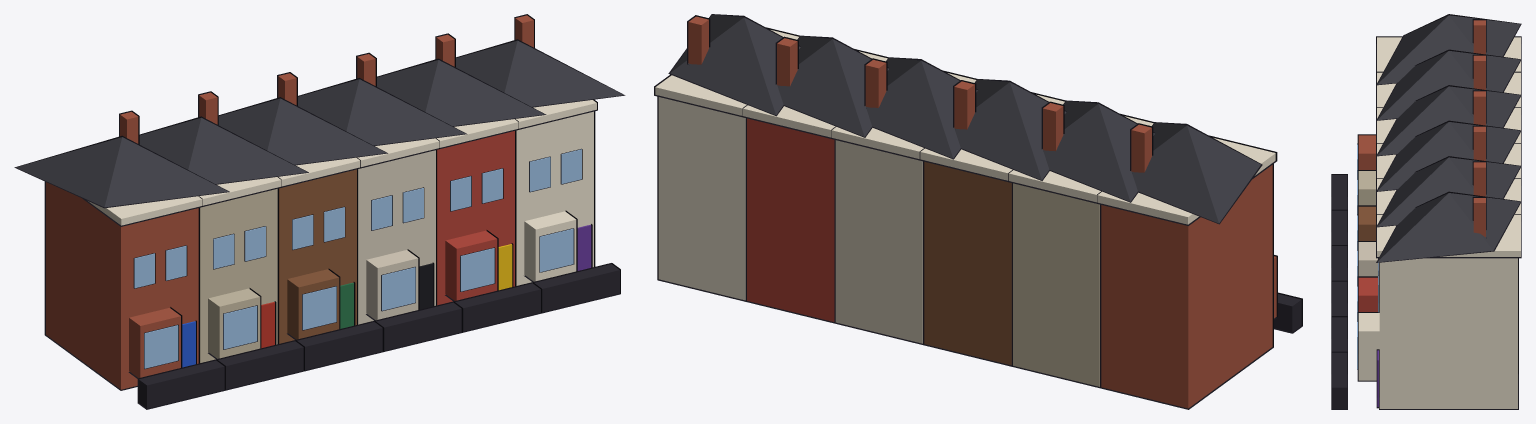
The model's file is gl-terrace-row.glb.
3 renders of one model, left to right at view 1: azimuth 30°, elevation 25°; view 2: azimuth 150°, elevation 25°; view 3: azimuth 270°, elevation 25°, orthographic. The views are drawn at different scales.
Visible parts, largest first — view 1: Cube, Cone, Cube.036, Cube.045, Cube.018, Cube.027, Cube.009, Cone.002, Cone.001, Cone.004, Cone.005, Cone.003 (+48 smaller); view 2: Cube, Cube.036, Cube.009, Cube.018, Cube.027, Cube.045, Cone, Cone.005, Cone.002, Cone.004, Cone.003, Cone.001 (+13 smaller); view 3: Cube.045, Cone.005, Cone, Cone.002, Cone.004, Cone.003, Cone.001, Cube.046, Cube.048, Cube.053, Cube.001, Cube.010 (+20 smaller).
Part boxes in pixels (bbox=[...]): Cube: bbox=[44, 181, 199, 390]; Cone: bbox=[14, 135, 229, 208]; Cube.036: bbox=[437, 130, 516, 305]; Cube.045: bbox=[516, 111, 595, 285]; Cube.018: bbox=[279, 169, 357, 343]; Cube.027: bbox=[358, 150, 436, 324]; Cube.009: bbox=[200, 188, 278, 362]; Cone.002: bbox=[218, 97, 387, 165]; Cone.001: bbox=[139, 116, 308, 184]; Cone.004: bbox=[377, 58, 546, 126]; Cone.005: bbox=[456, 39, 625, 107]; Cone.003: bbox=[298, 78, 467, 145]; Cube: bbox=[1100, 164, 1273, 409]; Cube.036: bbox=[745, 118, 834, 323]; Cube.009: bbox=[1011, 183, 1099, 388]; Cube.018: bbox=[923, 161, 1011, 366]; Cube.027: bbox=[834, 140, 922, 344]; Cube.045: bbox=[657, 96, 745, 301]; Cone: bbox=[1131, 122, 1262, 224]; Cone.005: bbox=[668, 14, 800, 116]; Cone.002: bbox=[954, 79, 1066, 180]; Cone.004: bbox=[777, 35, 889, 137]; Cone.003: bbox=[866, 57, 977, 159]; Cone.001: bbox=[1042, 100, 1154, 202]; Cube.045: bbox=[1379, 258, 1518, 409]; Cone.005: bbox=[1376, 191, 1521, 262]; Cone: bbox=[1376, 14, 1521, 85]; Cone.002: bbox=[1376, 85, 1521, 156]; Cone.004: bbox=[1376, 156, 1521, 227]; Cone.003: bbox=[1376, 120, 1521, 191]; Cone.001: bbox=[1376, 49, 1521, 120]; Cube.046: bbox=[1376, 214, 1521, 258]; Cube.048: bbox=[1357, 312, 1379, 381]; Cube.053: bbox=[1331, 351, 1347, 409]; Cube.001: bbox=[1376, 36, 1521, 80]; Cube.010: bbox=[1376, 71, 1521, 115].
Size of the model in its own units: 20.2 by 8 by 6.8.
